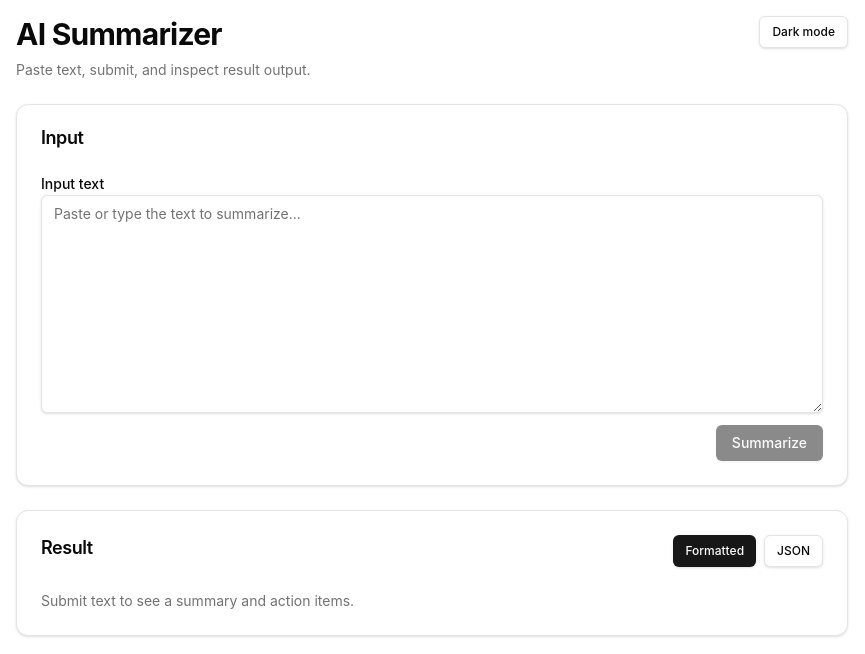
Test case: App › shows backend error message when request fails
Type "Trigger an error response." into the text box labelled "Input text" at (432, 304), box [41,195,823,413]
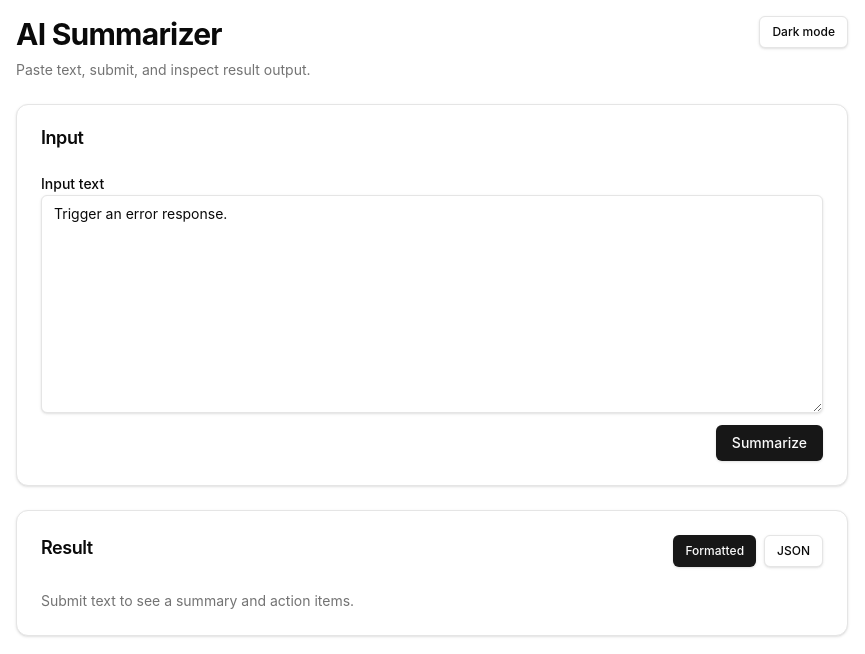
Click the button "Summarize" at (769, 443), box [716,425,823,461]
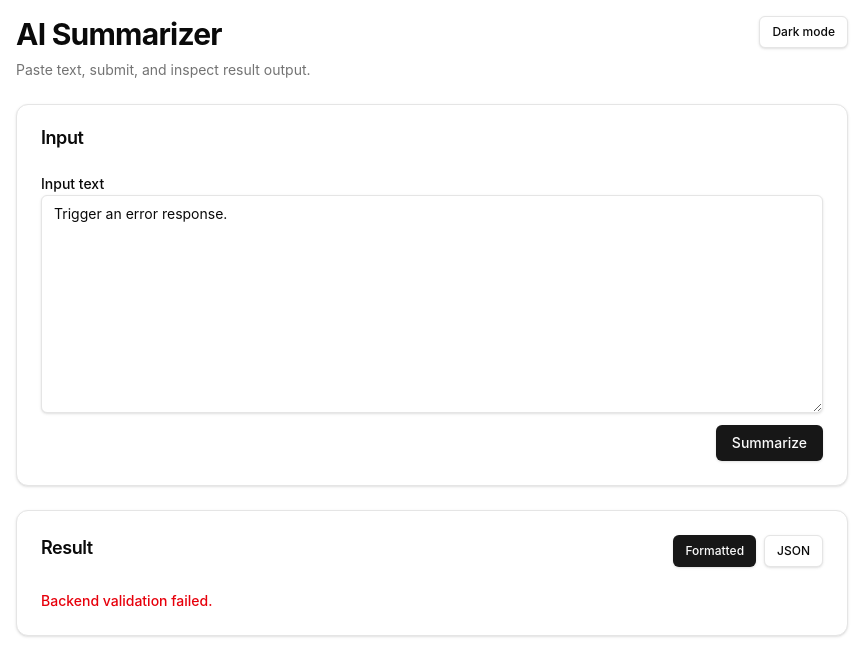
expect the text "Backend validation failed." is shown: met, box [41,592,212,609]
